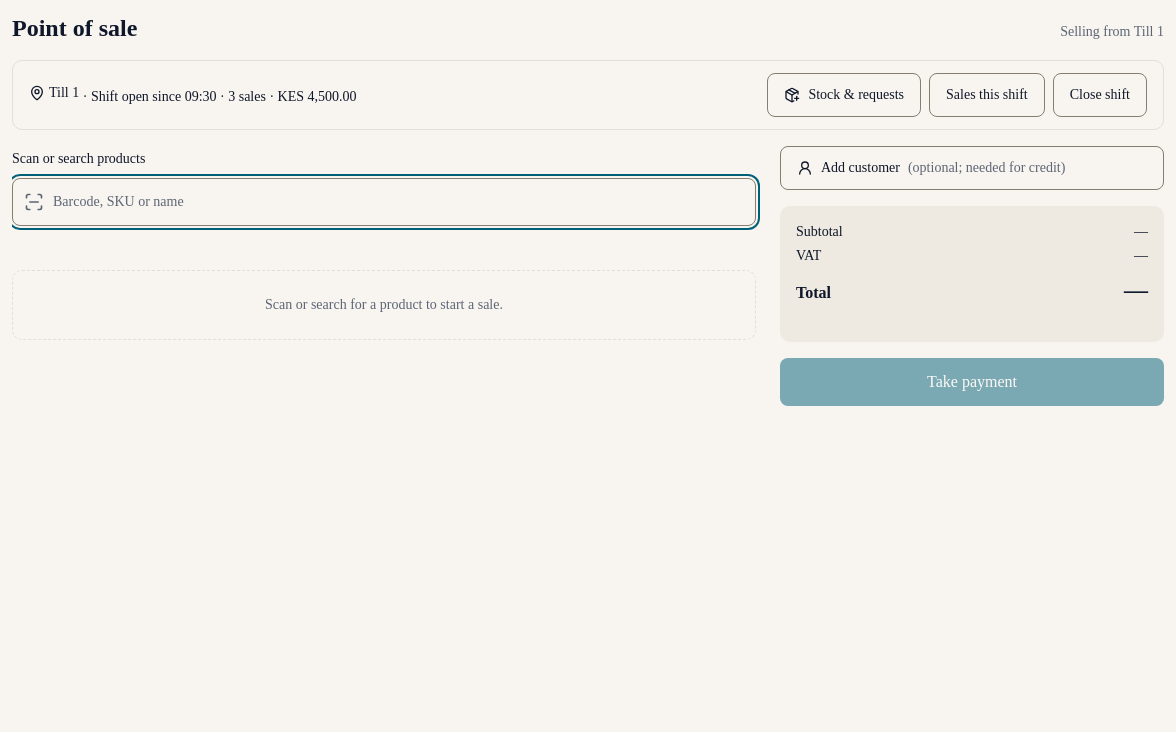
Test: selling › warns before submit when a line asks for more than the location holds
This screenshot has width=1176, height=732.
Type "cement" into the search field labelled "Scan or search products" at (384, 202), box [12,178,756,226]
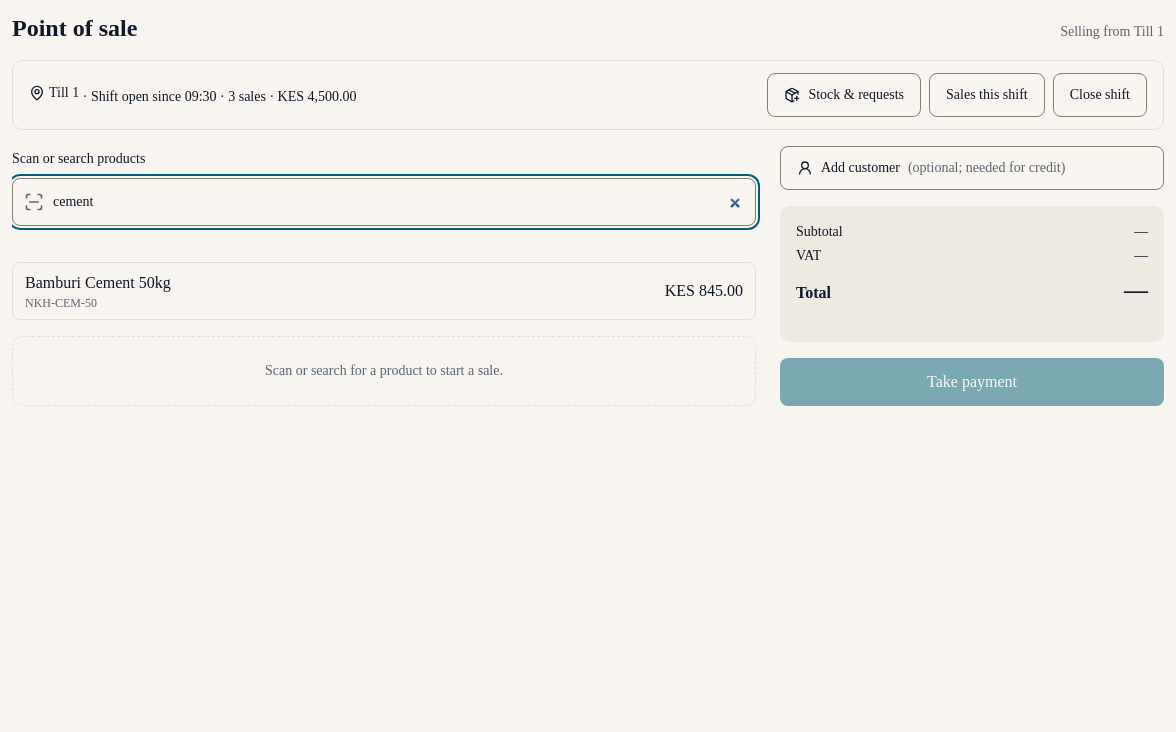
Click the button "Bamburi Cement 50kg NKH-CEM-50 KES 845.00" at (98, 282), box [12,262,756,320]
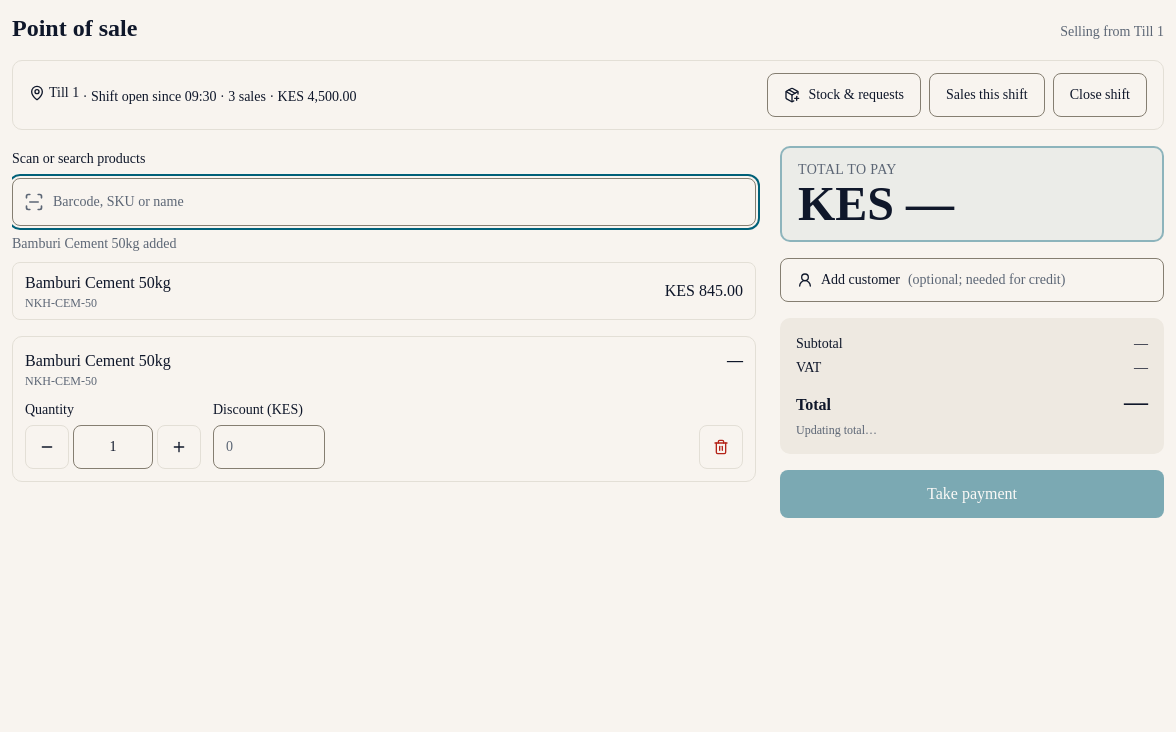
Click the button named "One more Bamburi Cement 50kg" at (179, 447), box [157,425,201,469]
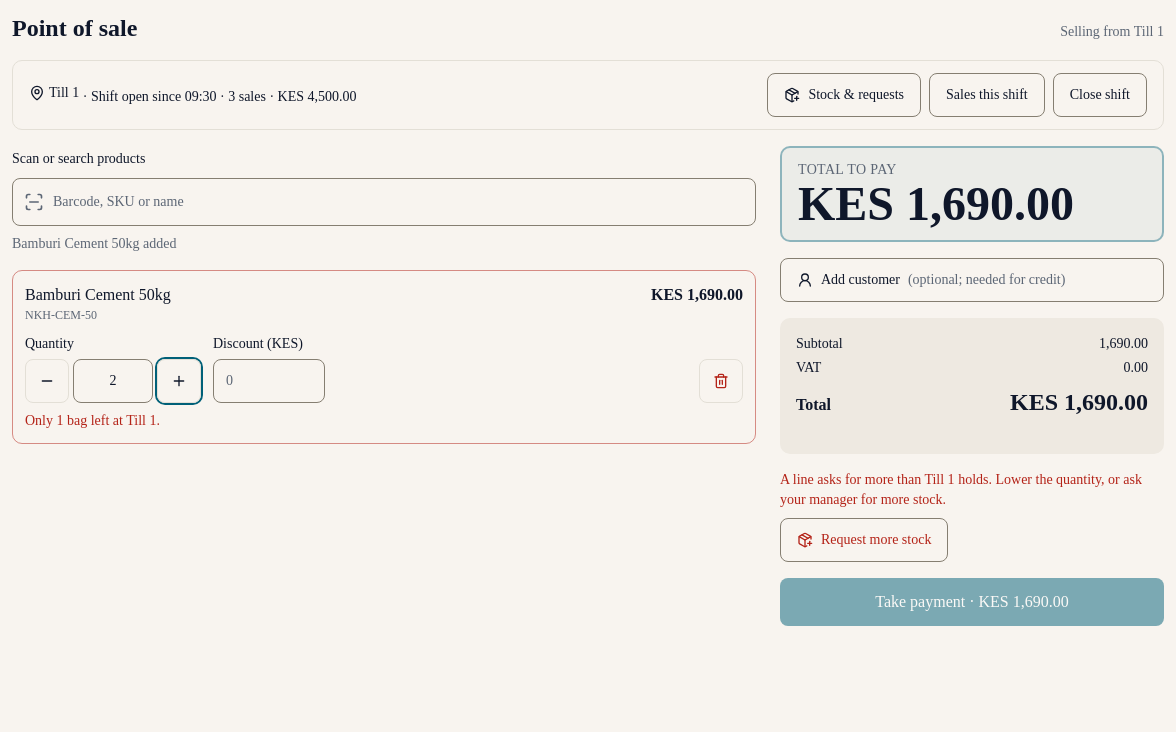
expect the text "Only 1 bag left at Till 1." is shown: met, box [25,413,160,428]
expect the text "A line asks for more than Till 1 holds" is shown: met, box [780,470,1164,510]
